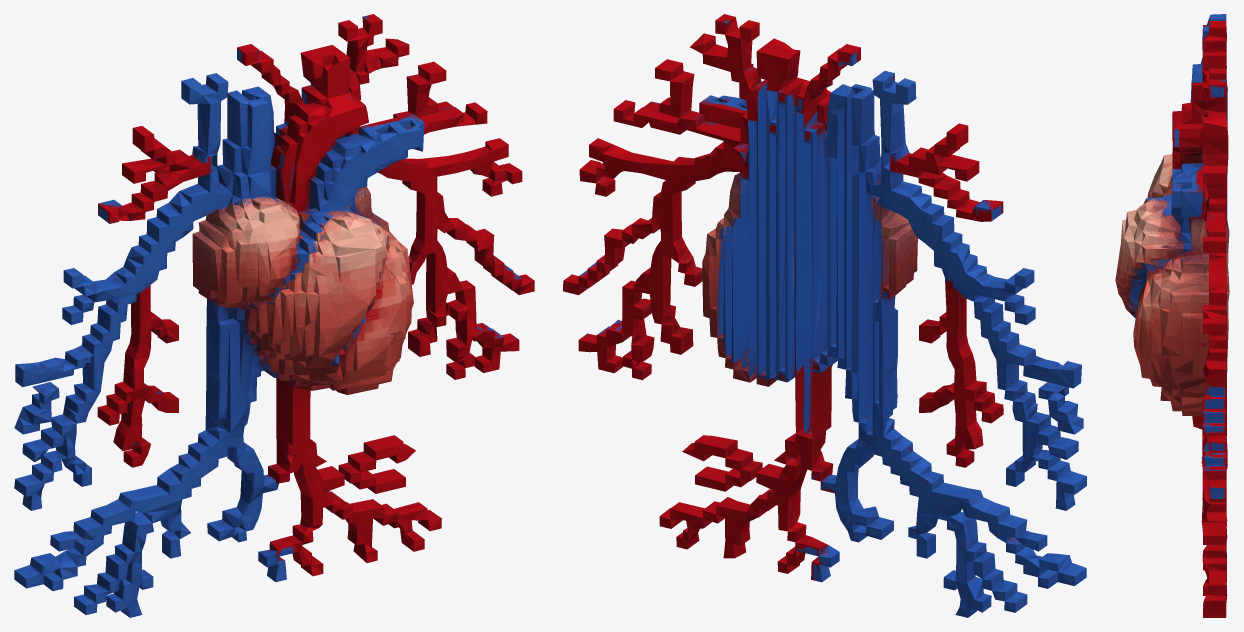
3 renders of one model, left to right at view 1: azimuth 30°, elevation 25°; view 2: azimuth 150°, elevation 25°; view 3: azimuth 270°, elevation 25°, orthographic. The views are drawn at different scales.
Visible parts, largest first — view 1: node_0; view 2: node_0; view 3: node_0.
Boxes of the visible parts, <box> form: node_0: <box>14,14,534,617</box>; node_0: <box>563,14,1086,617</box>; node_0: <box>1115,14,1229,617</box>.
Size of the model in its own units: 0.9351 by 0.9359 by 0.1881.
Materials: 1 (1 with a texture image).
